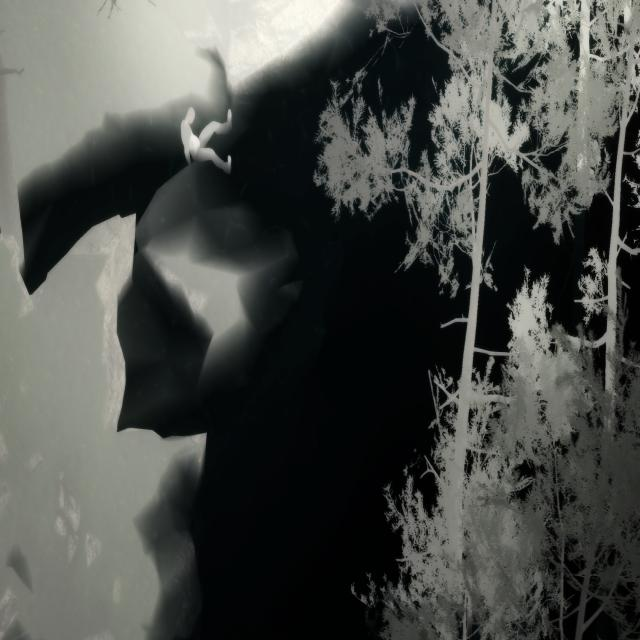Human: (176, 102, 238, 177)
